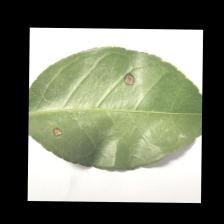canker: (44, 51, 149, 151)
